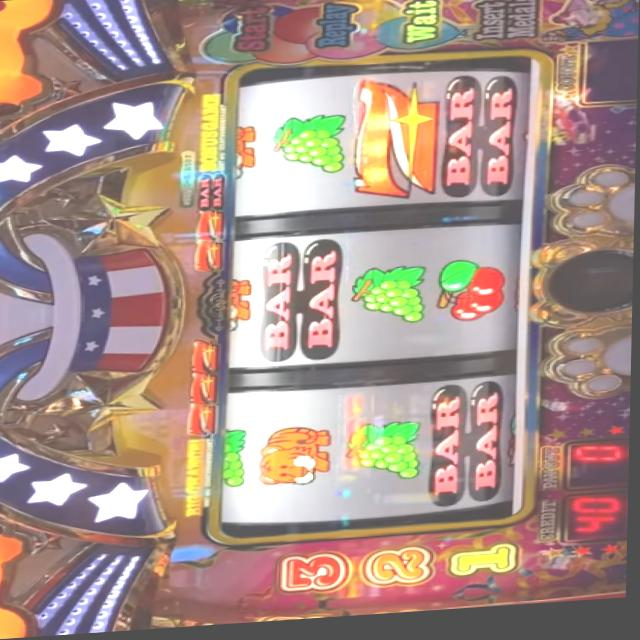bar: (257, 241, 348, 367), (440, 77, 518, 205), (429, 386, 507, 513), (195, 174, 226, 212)
cherry: (436, 261, 511, 329)
display: (222, 58, 540, 542)
grape: (349, 268, 433, 333), (345, 423, 426, 489), (268, 117, 351, 181), (224, 429, 251, 492)
tiger: (256, 427, 336, 493), (229, 127, 262, 187), (227, 280, 255, 334)
z: (349, 79, 443, 209), (189, 340, 224, 374), (186, 405, 220, 439), (191, 242, 224, 276), (188, 373, 221, 406), (192, 212, 226, 244)
